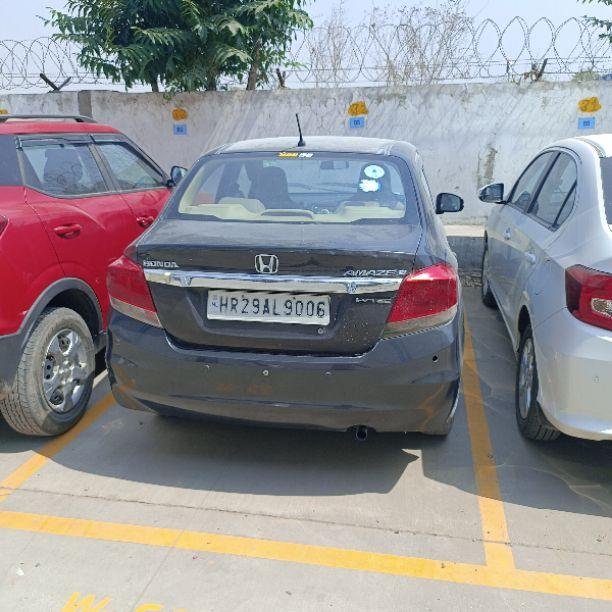license_plate: (205, 288, 331, 325)
